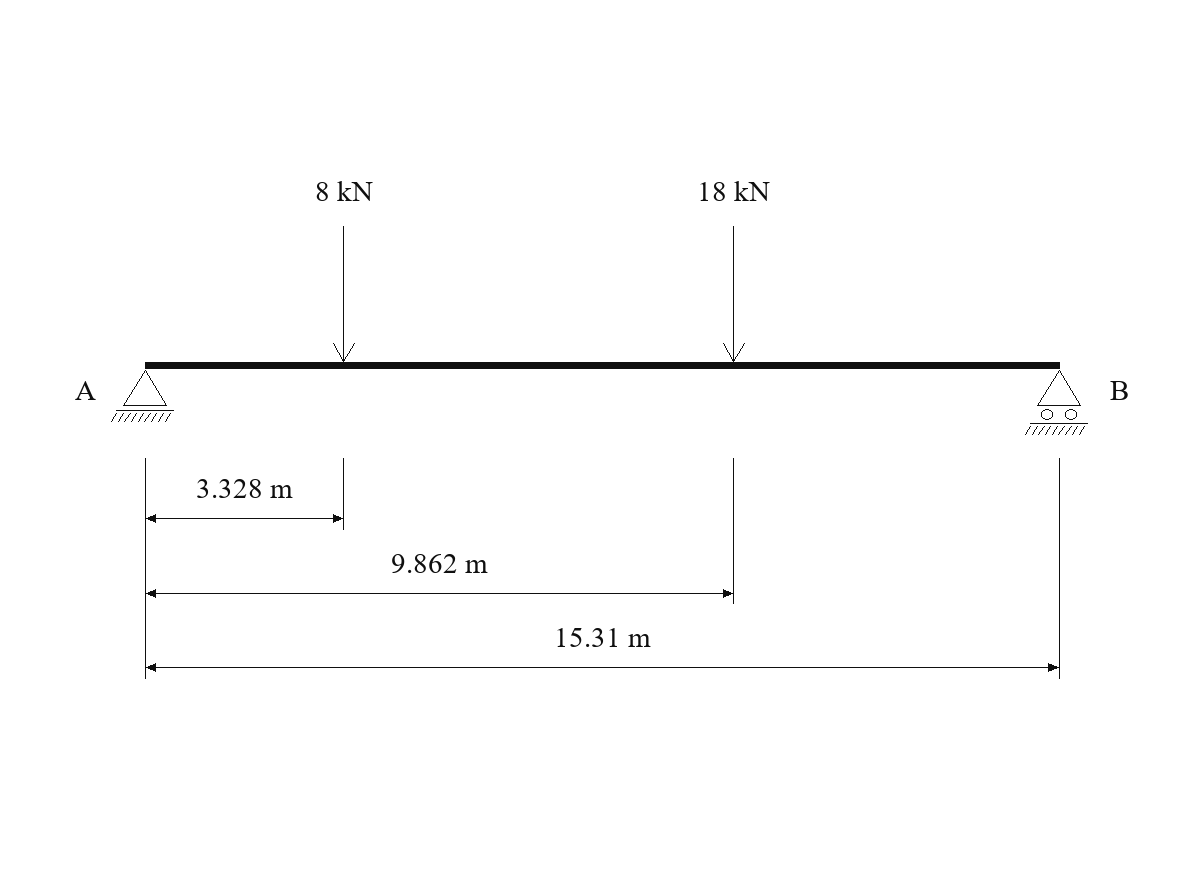pin_support: (111, 370, 174, 422)
point_load: (333, 226, 355, 362), (723, 226, 745, 362)
roller_support: (1025, 370, 1088, 435)
